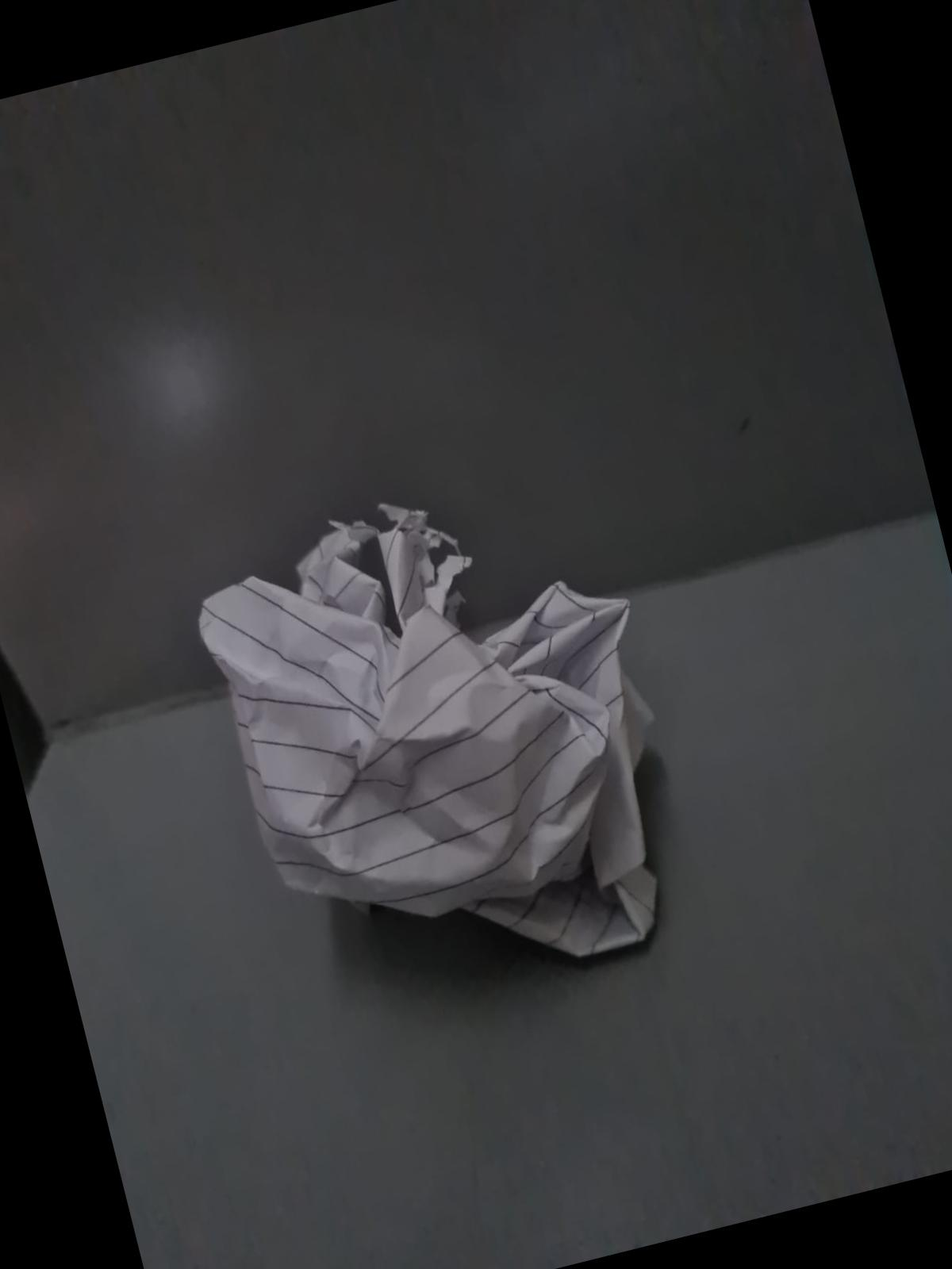Kertas: (199, 504, 707, 989)
